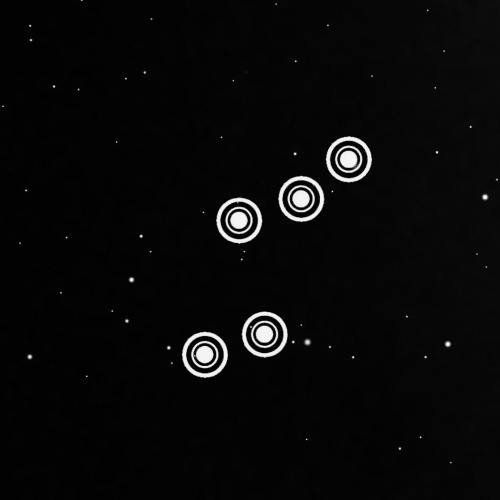lyra: (165, 114, 390, 397)
